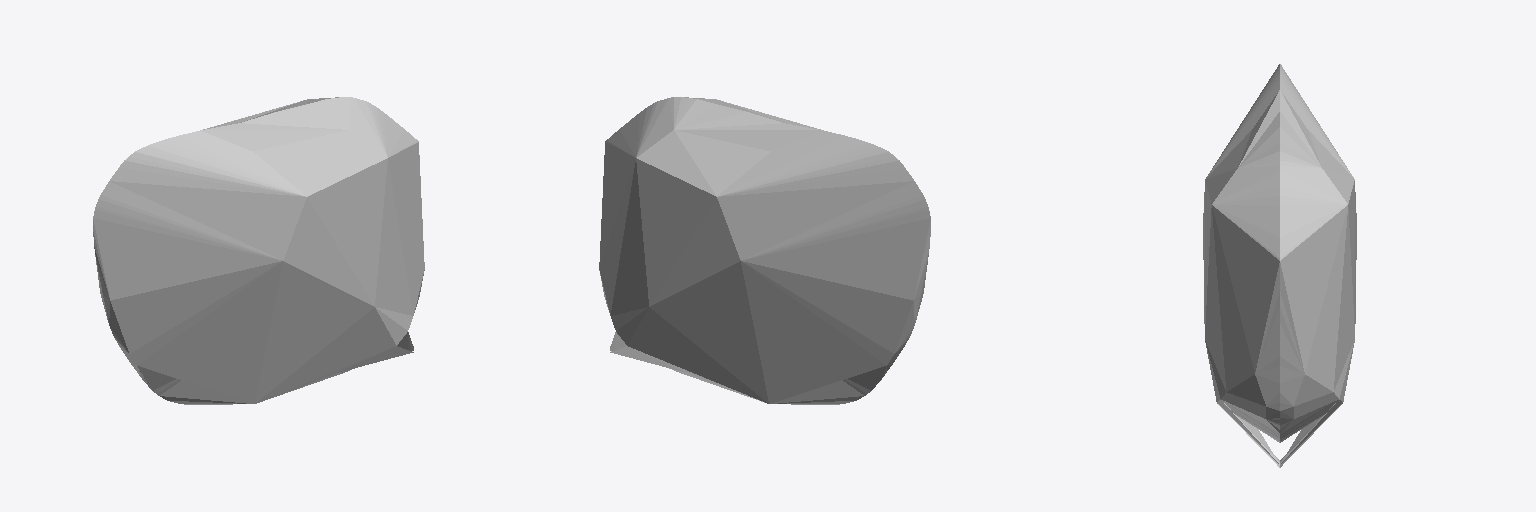
Rendered from estomago.obj.
The picture shows the model from 3 angles: view 1: azimuth 30°, elevation 25°; view 2: azimuth 150°, elevation 25°; view 3: azimuth 270°, elevation 25°; orthographic projection.
Parts seen in each view (by area): view 1: grp1; view 2: grp1; view 3: grp1.
Boxes of the visible parts, <box> form: grp1: <box>93,97,424,404</box>; grp1: <box>599,97,930,404</box>; grp1: <box>1203,64,1356,467</box>.
Bounding box in the file's own units: 731 × 599 × 299.